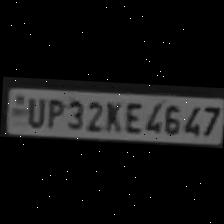2: (82, 96, 104, 132)
3: (62, 96, 84, 130)
4: (178, 102, 201, 136), (142, 99, 162, 134)
6: (160, 102, 182, 134)
7: (198, 102, 220, 136)
E: (119, 98, 142, 134)
K: (100, 97, 122, 132)
P: (42, 94, 64, 130)
U: (22, 94, 44, 128)
